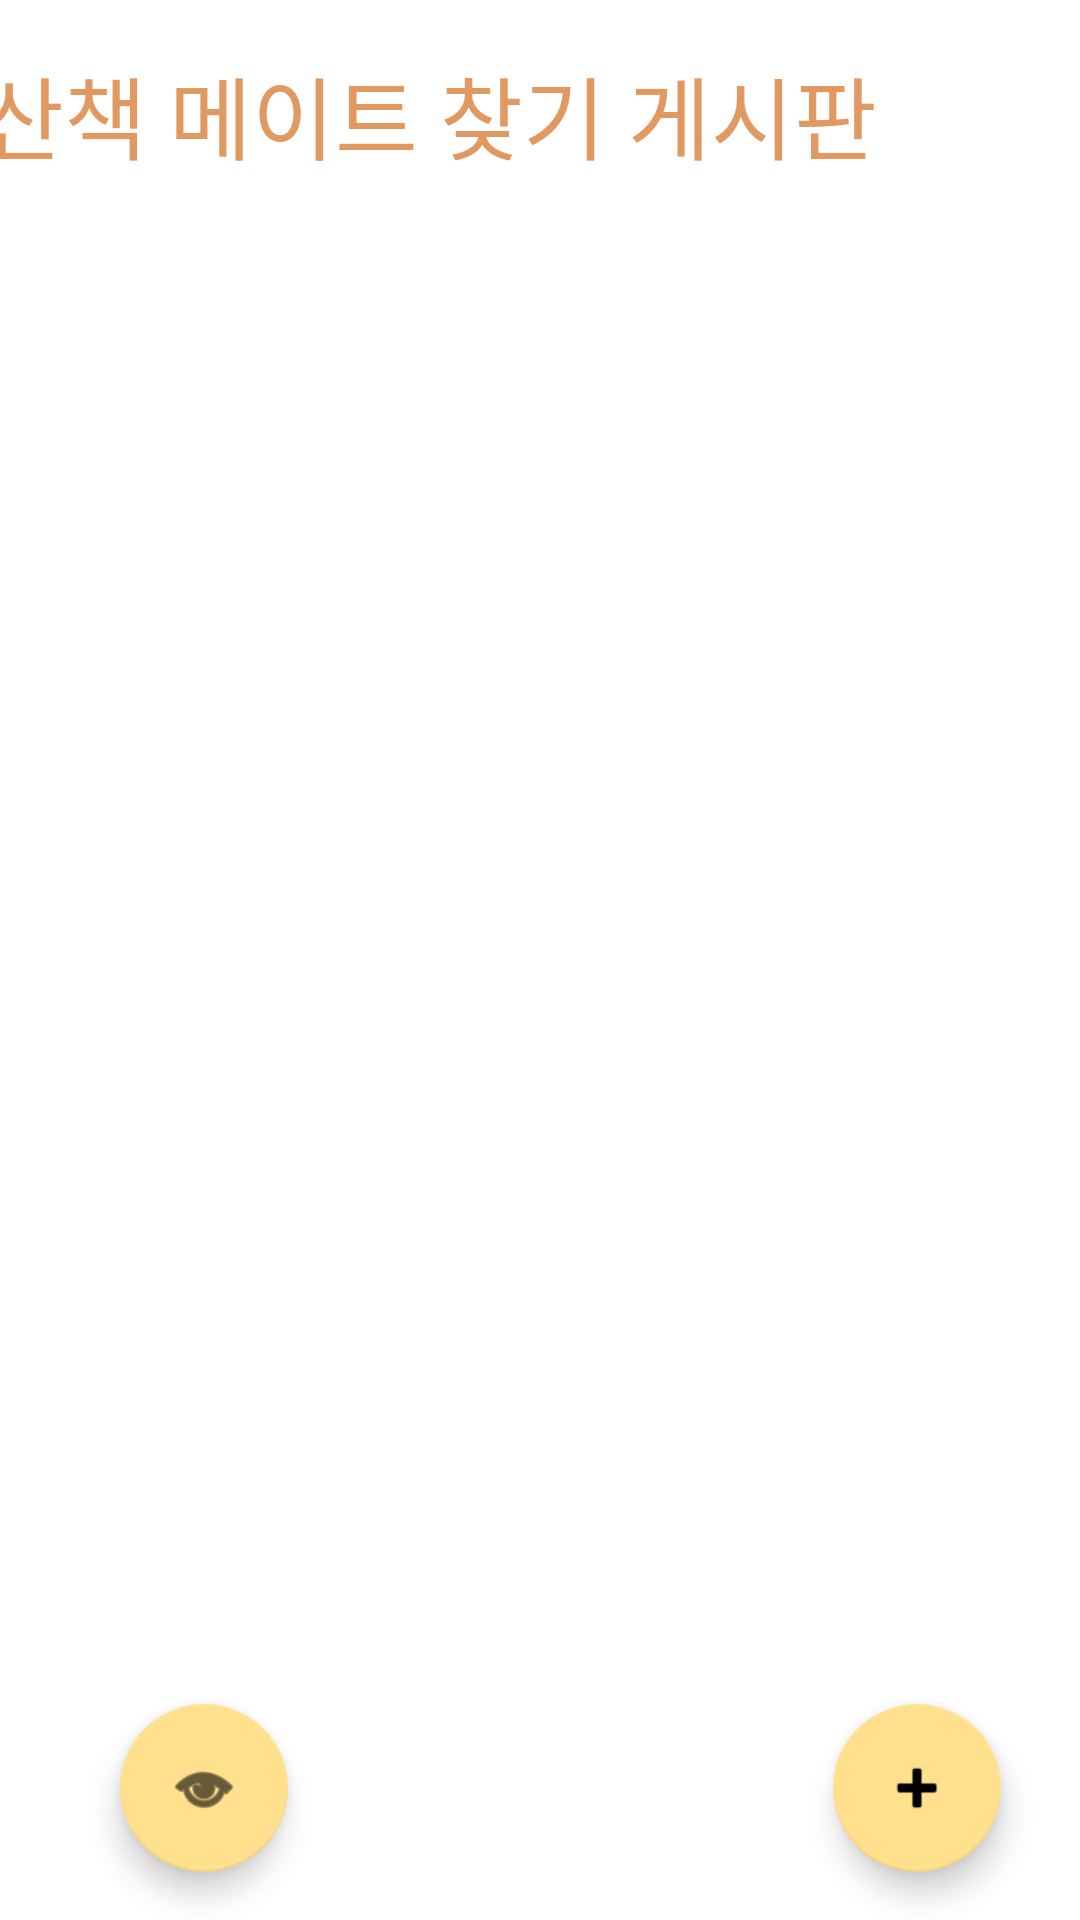

Where icons sit on this 1080 x 1920 app screen, as (x1, y1, x2, y2):
add: (833, 1704, 1001, 1872)
view: (120, 1704, 288, 1872)
